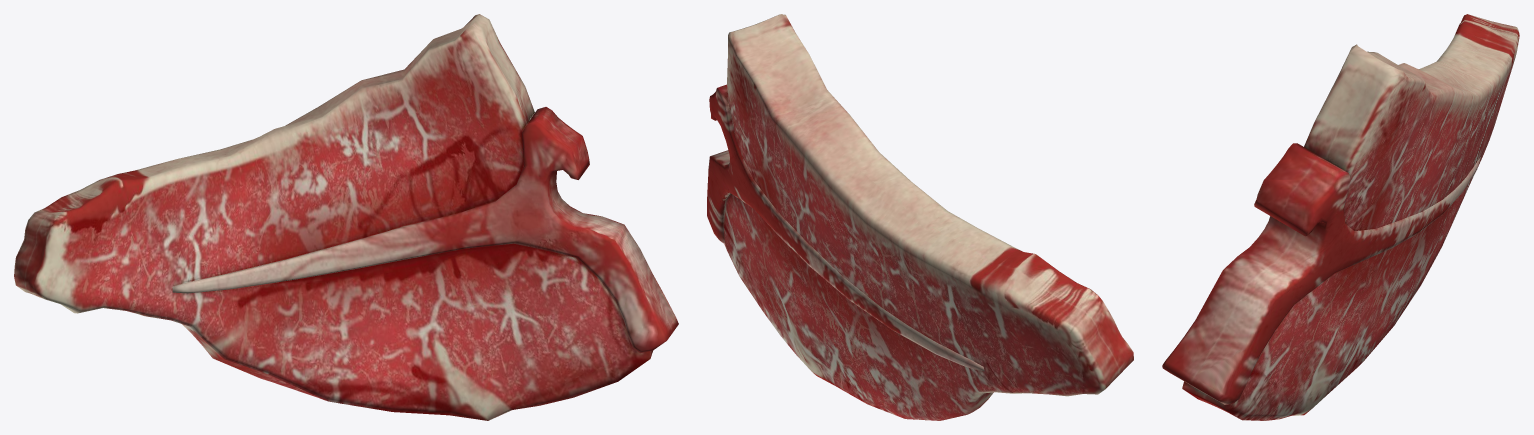
The model's file is carne.glb.
3 renders of one model, left to right at view 1: azimuth 30°, elevation 25°; view 2: azimuth 150°, elevation 25°; view 3: azimuth 270°, elevation 25°, orthographic. The views are drawn at different scales.
Parts seen in each view (by area): view 1: Meat_Rib_0; view 2: Meat_Rib_0; view 3: Meat_Rib_0.
Part boxes in pixels (bbox=[...]): Meat_Rib_0: bbox=[14, 14, 678, 420]; Meat_Rib_0: bbox=[707, 14, 1133, 420]; Meat_Rib_0: bbox=[1162, 14, 1519, 420].
Bounding box in the file's own units: 56.85 × 37.86 × 32.81.
1 material, 1 textured.
